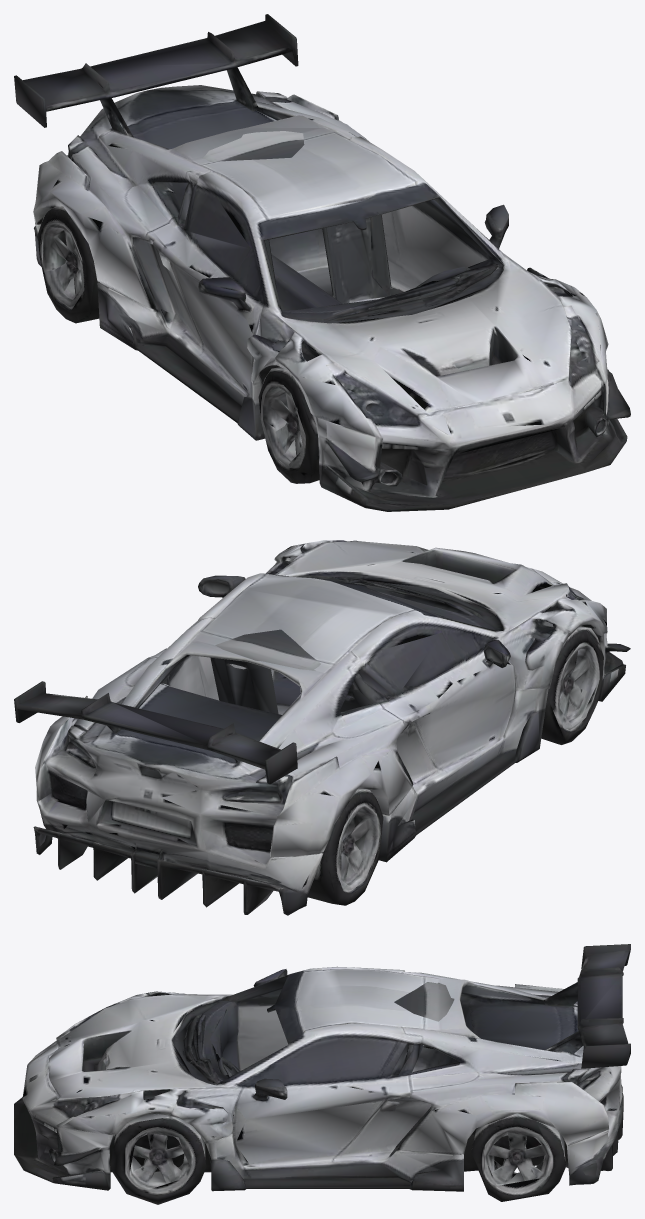
File: street-racer.glb
3 views of the same model, one above another, from view 1: azimuth 30°, elevation 25°; view 2: azimuth 150°, elevation 25°; view 3: azimuth 270°, elevation 25° (orthographic). The views are drawn at different scales.
Parts seen in each view (by area): view 1: tripo_node_90987c24-f99c-4289-b384-7fb72aa483b2; view 2: tripo_node_90987c24-f99c-4289-b384-7fb72aa483b2; view 3: tripo_node_90987c24-f99c-4289-b384-7fb72aa483b2.
Part boxes in pixels (left/top/right/bottom): tripo_node_90987c24-f99c-4289-b384-7fb72aa483b2: left=14, top=14, right=630, bottom=511; tripo_node_90987c24-f99c-4289-b384-7fb72aa483b2: left=14, top=540, right=630, bottom=915; tripo_node_90987c24-f99c-4289-b384-7fb72aa483b2: left=14, top=944, right=630, bottom=1204.
Size of the model in its own units: 0.4573 by 0.2736 by 0.9757.
1 material, 1 textured.
